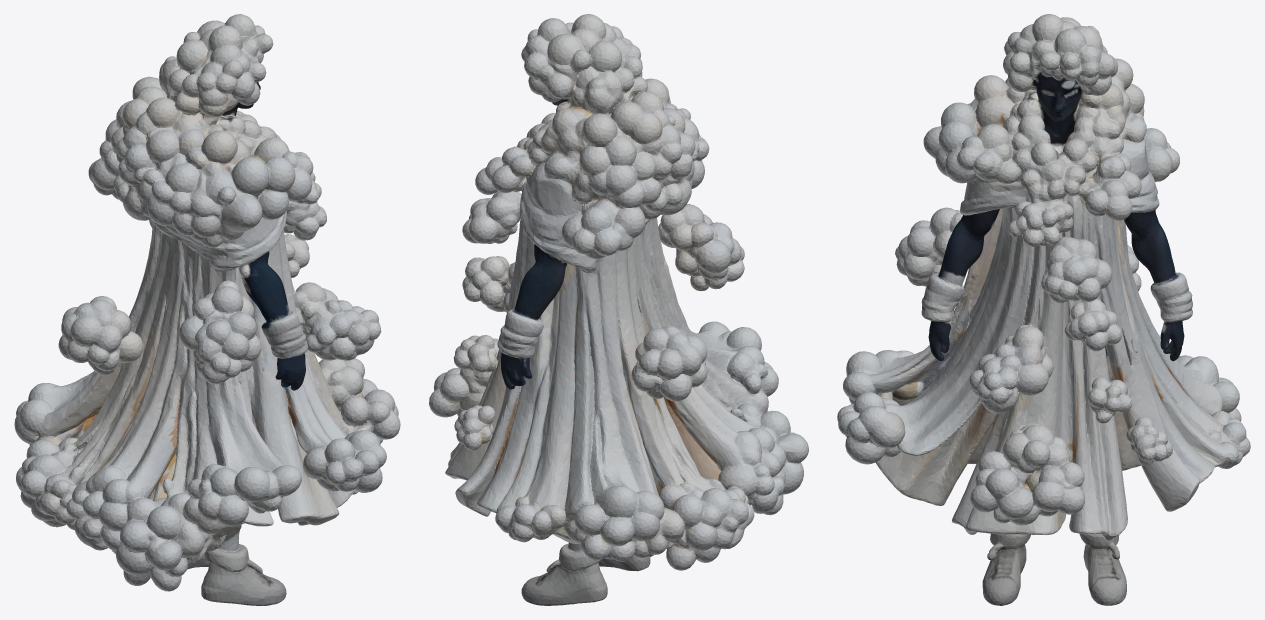
Rendered from modelo4.glb.
The picture shows the model from 3 angles, left to right: view 1: azimuth 30°, elevation 25°; view 2: azimuth 150°, elevation 25°; view 3: azimuth 270°, elevation 25°; orthographic projection. The views are drawn at different scales.
Parts seen in each view (by area): view 1: tripo_node_f7462784-94f9-40cc-bba1-a52d0a41788e; view 2: tripo_node_f7462784-94f9-40cc-bba1-a52d0a41788e; view 3: tripo_node_f7462784-94f9-40cc-bba1-a52d0a41788e.
Part boxes in pixels (left/top/right/bottom): tripo_node_f7462784-94f9-40cc-bba1-a52d0a41788e: left=14, top=14, right=400, bottom=605; tripo_node_f7462784-94f9-40cc-bba1-a52d0a41788e: left=429, top=14, right=808, bottom=605; tripo_node_f7462784-94f9-40cc-bba1-a52d0a41788e: left=837, top=14, right=1250, bottom=605.
Size of the model in its own units: 0.6239 by 1 by 0.6527.
1 material, 1 textured.
